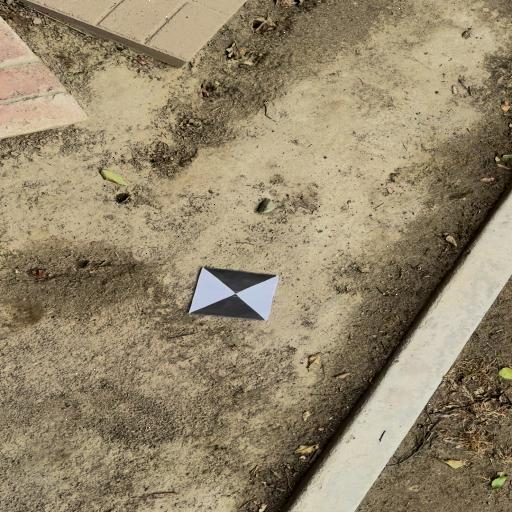target: (189, 267, 279, 321)
